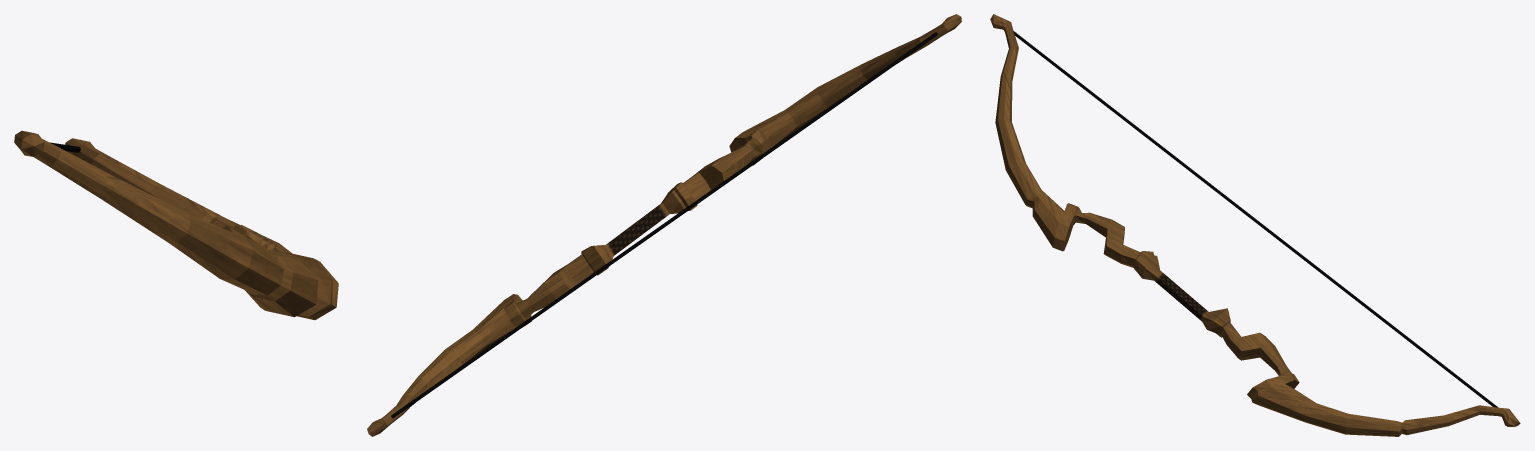
The model's file is mhw_culturalibre_wooden_bow.glb.
3 renders of one model, left to right at view 1: azimuth 30°, elevation 25°; view 2: azimuth 150°, elevation 25°; view 3: azimuth 270°, elevation 25°, orthographic. The views are drawn at different scales.
Parts seen in each view (by area): view 1: mhw_culturalibre_wooden_bow; view 2: mhw_culturalibre_wooden_bow; view 3: mhw_culturalibre_wooden_bow.
Part boxes in pixels (box(x1,y1,x2,y2)): mhw_culturalibre_wooden_bow: box(14, 130, 338, 320); mhw_culturalibre_wooden_bow: box(367, 14, 961, 436); mhw_culturalibre_wooden_bow: box(990, 14, 1520, 436).
Size of the model in its own units: 0.7856 by 0.674 by 1.17.
1 material, 1 textured.
